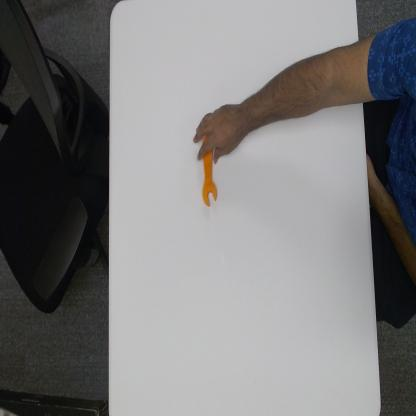Arm: (244, 30, 364, 139)
Hand: (193, 100, 244, 163)
Screwdriver: (200, 153, 219, 213)
